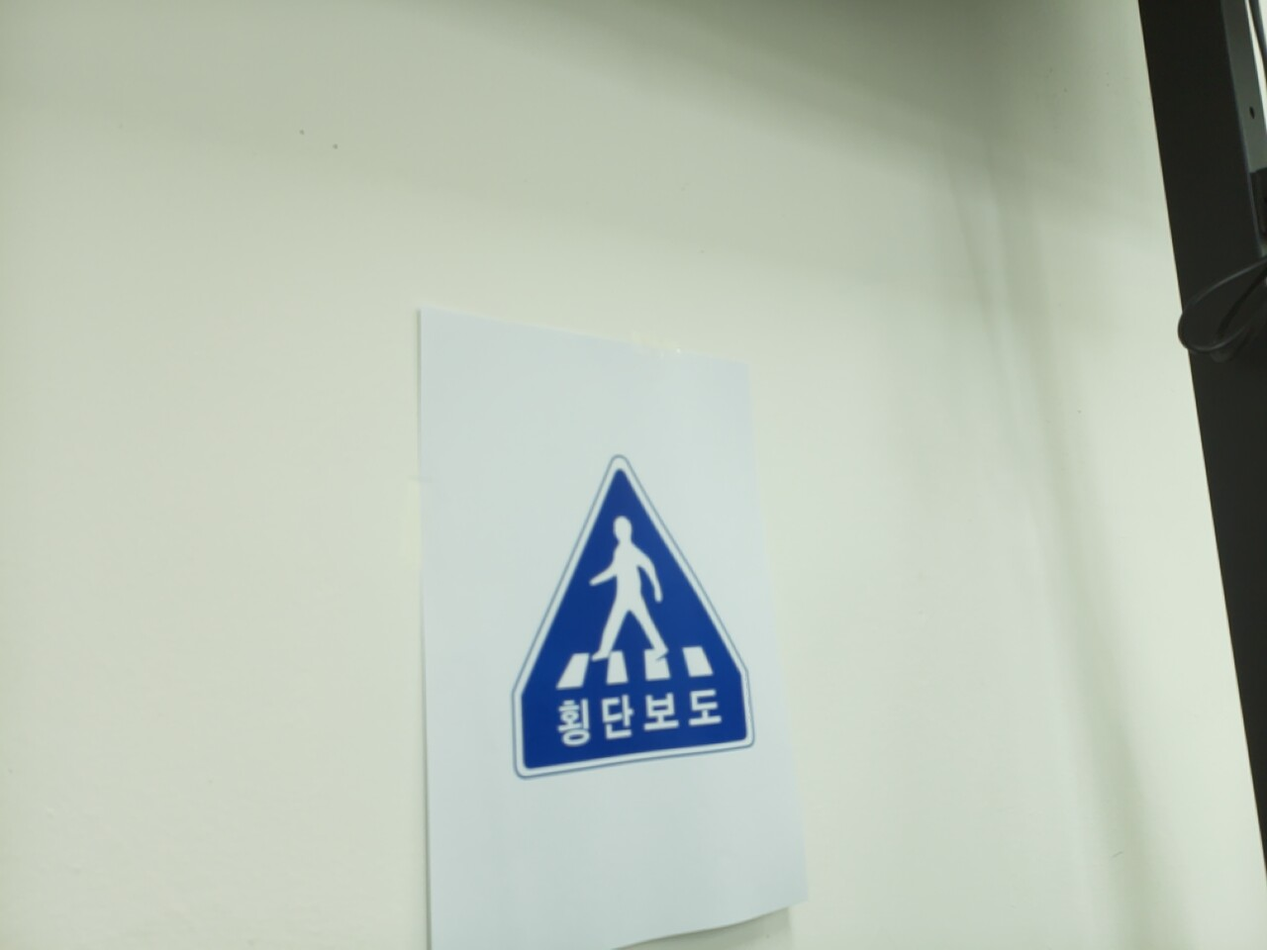crosswalk: (513, 459, 755, 779)
